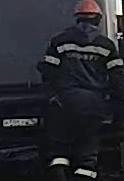helmet: (73, 0, 102, 22)
vest: (40, 26, 123, 117)
